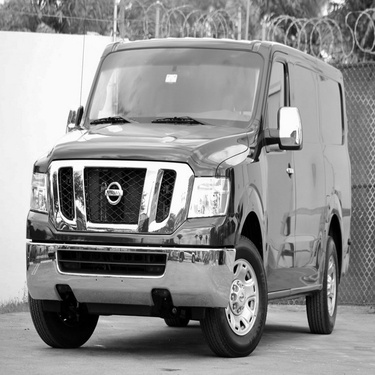car: (19, 23, 363, 355)
